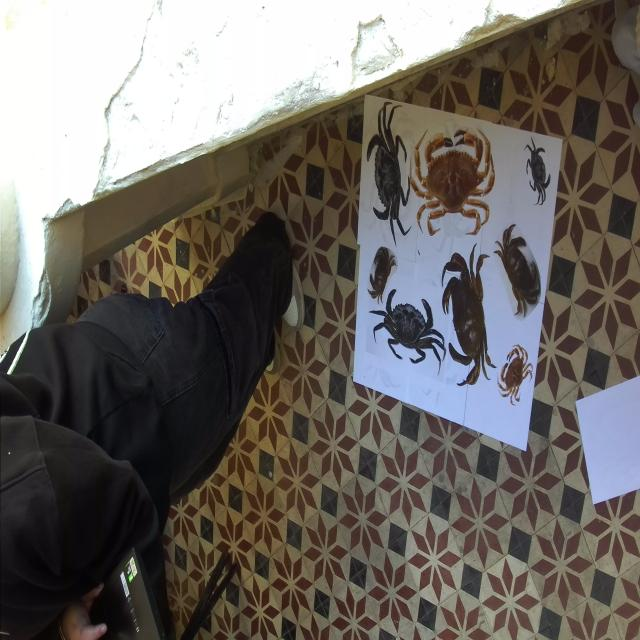European_Green_Crab: (364, 277, 452, 379), (362, 97, 415, 254), (520, 129, 555, 211)
